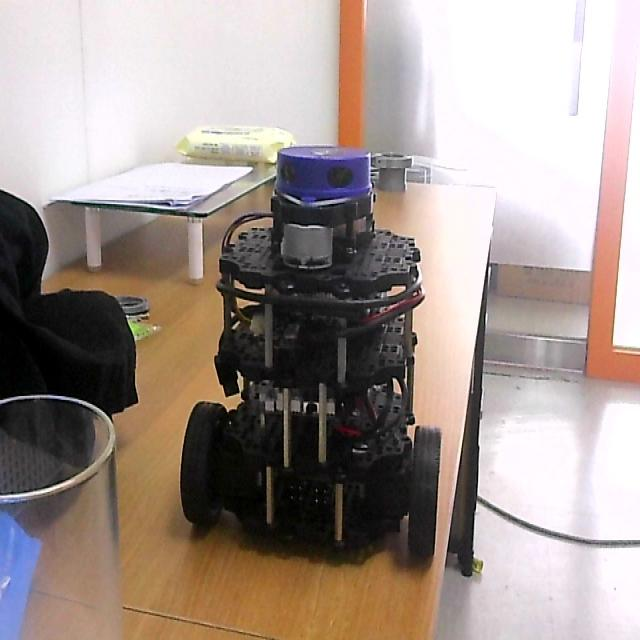turtle: (178, 144, 443, 570)
